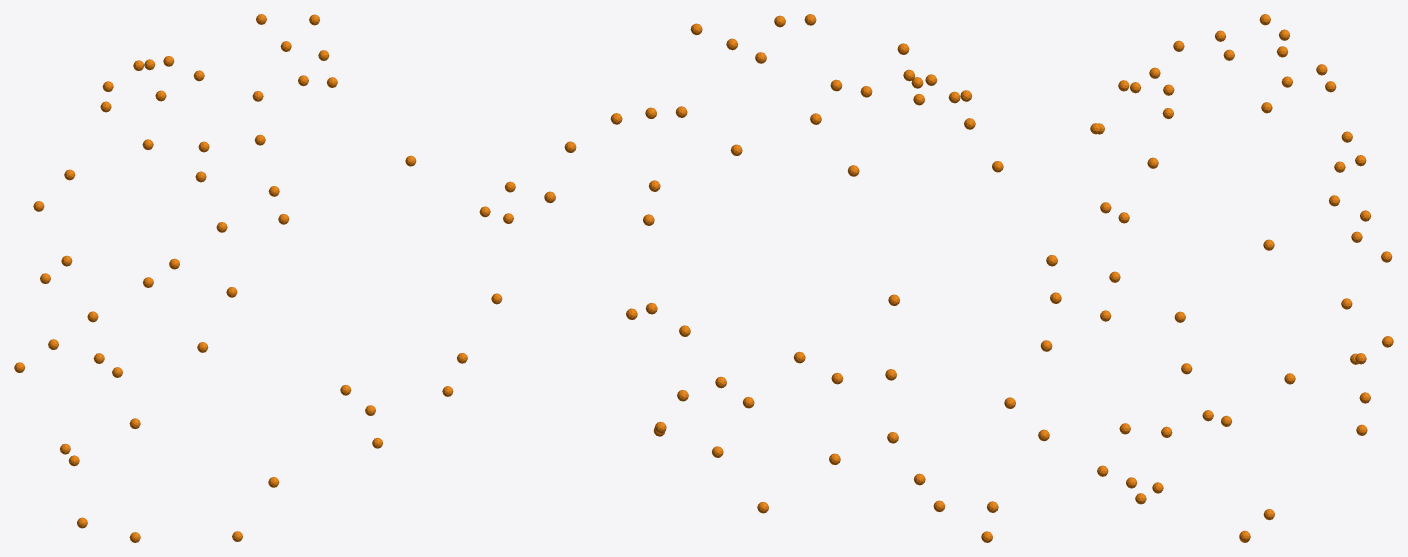
File: citrus_d_fruit.obj
3 renders of one model, left to right at view 1: azimuth 30°, elevation 25°; view 2: azimuth 150°, elevation 25°; view 3: azimuth 270°, elevation 25°, orthographic. The views are drawn at different scales.
Parts seen in each view (by area): view 1: fruit; view 2: fruit; view 3: fruit.
Part boxes in pixels (x1,y1,x2,y2): fruit: (14, 14, 515, 542); fruit: (544, 14, 1061, 542); fruit: (1090, 14, 1393, 542).
Size of the model in its own units: 3.7 by 3.44 by 2.01.
